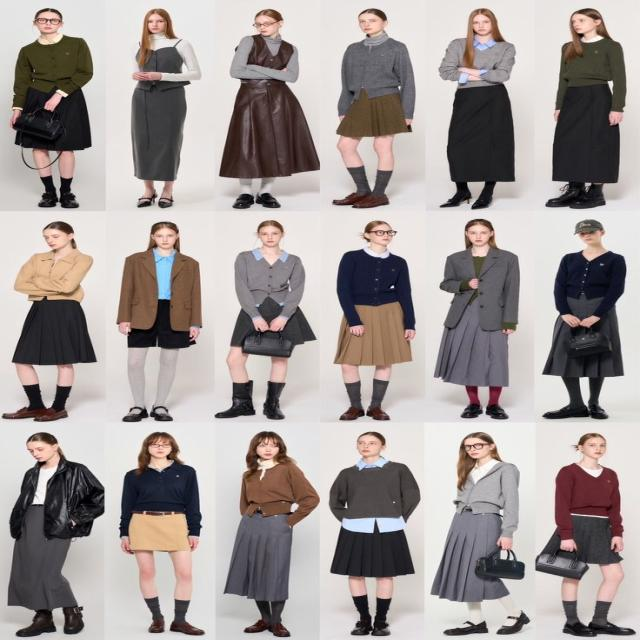person: (218, 8, 320, 208), (430, 432, 530, 636), (214, 220, 316, 420), (7, 432, 105, 637), (223, 431, 319, 636), (2, 220, 97, 422), (328, 431, 421, 636), (118, 431, 205, 635), (116, 221, 202, 422), (433, 218, 519, 419), (541, 219, 626, 419), (553, 432, 636, 636), (333, 220, 417, 421), (331, 8, 415, 208), (10, 7, 93, 208), (544, 8, 626, 208), (437, 8, 516, 209), (130, 8, 202, 209)
